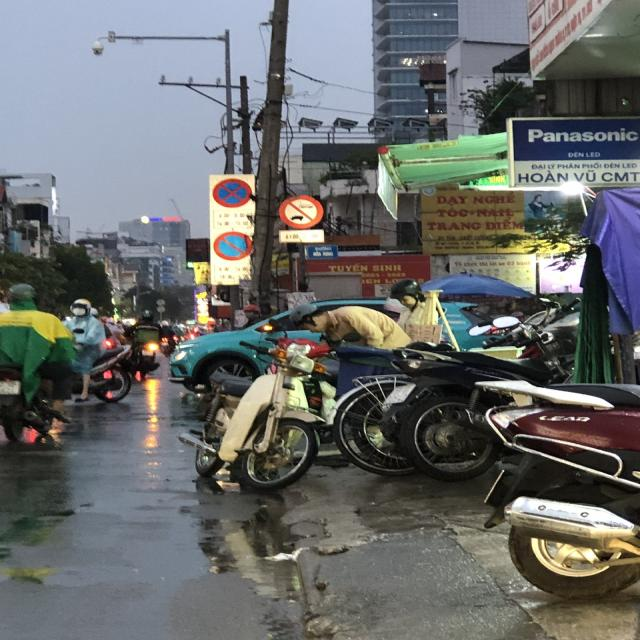Bien bao cam dung xe va do xe: (209, 174, 254, 210)
Bien bao cam xe oto khach va xe oto tai: (277, 191, 329, 231)
